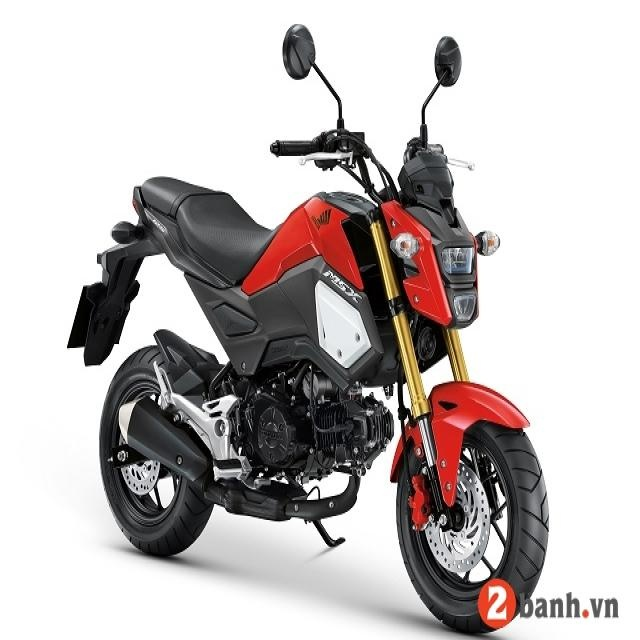Motorcycle: (63, 6, 557, 634)
